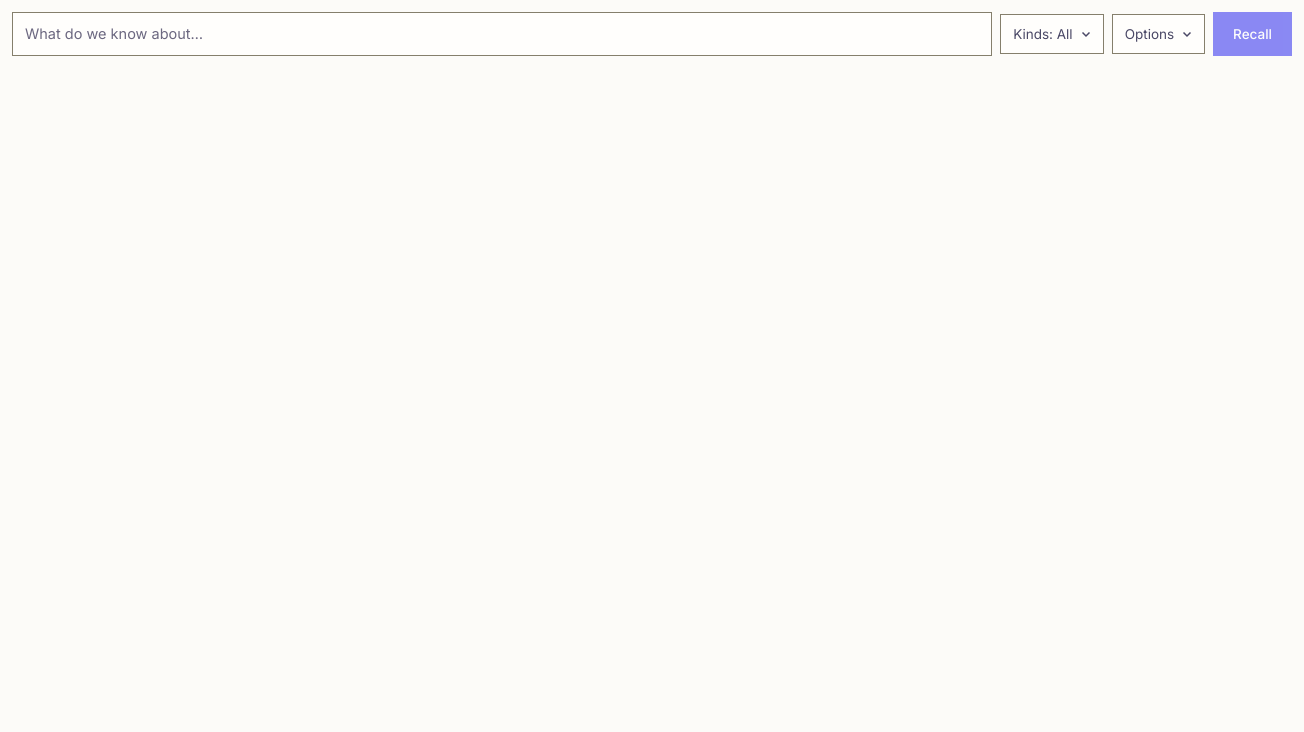
Scenario: omits kinds and asOf when none are chosen
Type "checkout" into the field.
click(502, 34); type("checkout")  # box [12,12,992,56]
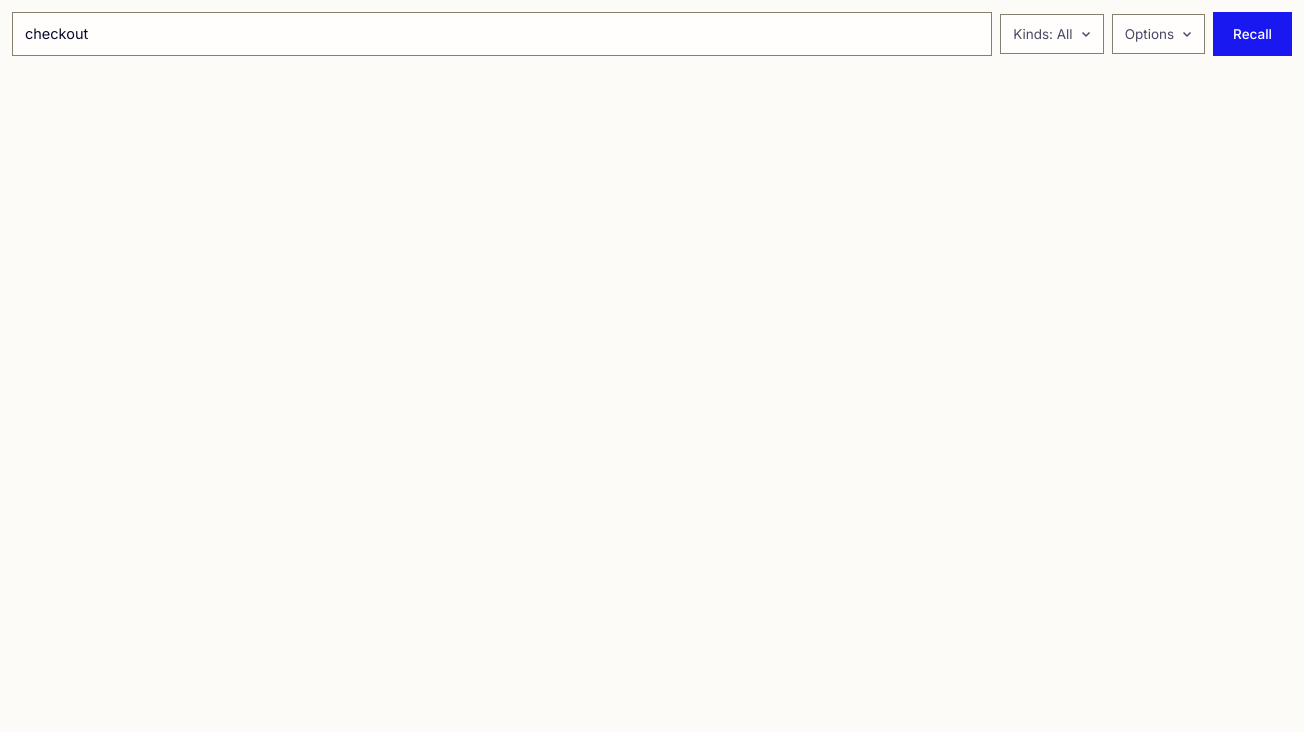
Submit the form, box [12,12,1292,56]
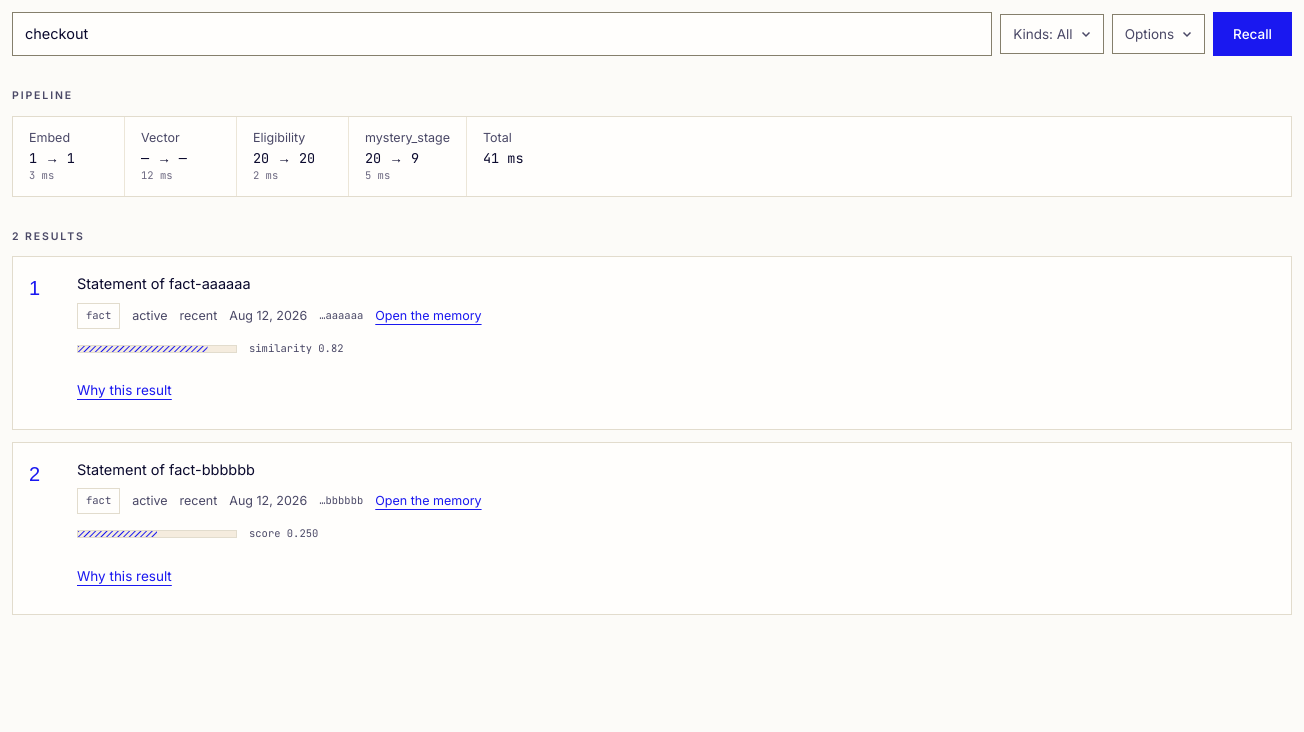
Now the list with test id "lethe-strip" is shown, box [13,117,524,196]
